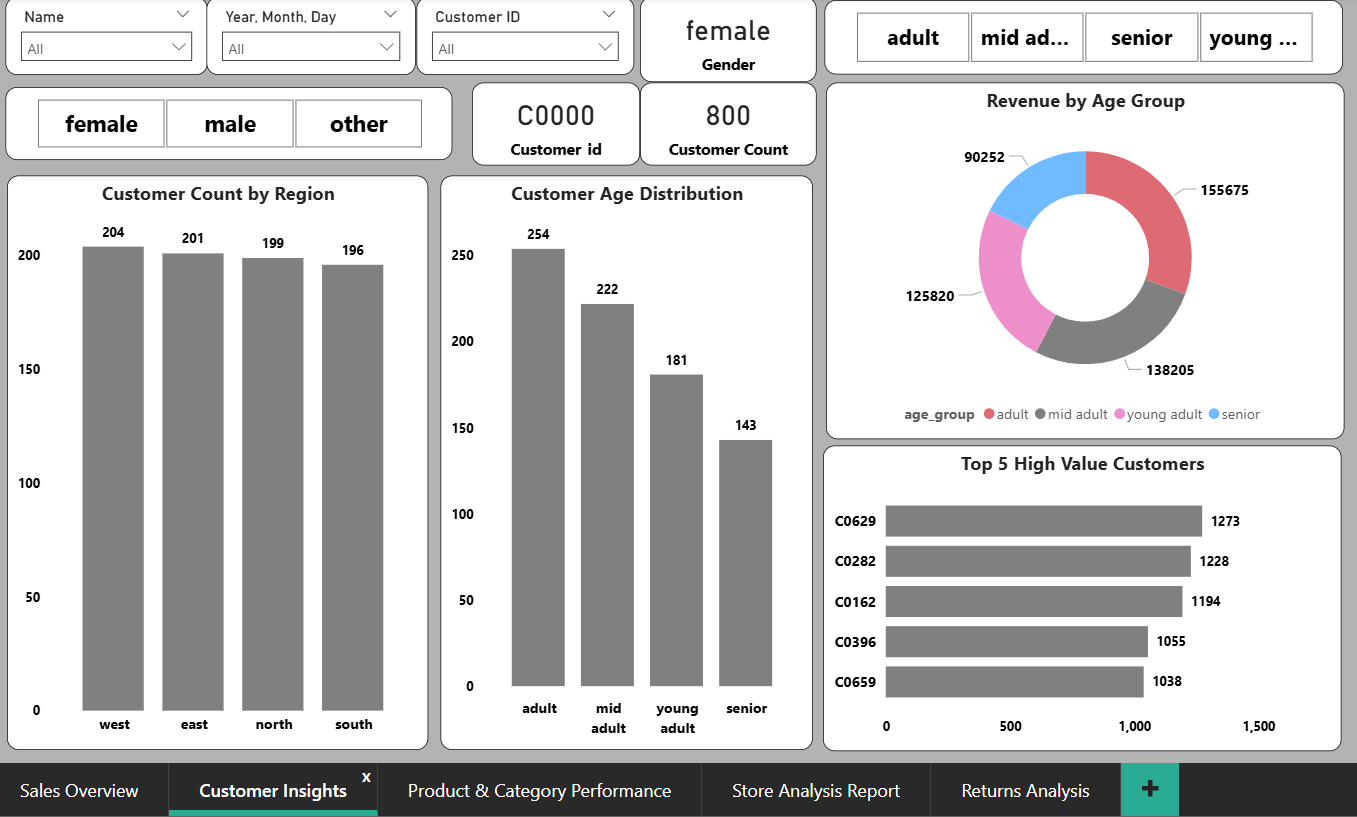

This screenshot's page, from the dashboard's own definition file:
{"tool":"powerbi","page":{"name":"Customer Insights","canvas":[1280,720],"ordinal":1},"visuals":[{"type":"card","fields":{"Values":["CountNonNull(retail_store customers.gender)"]},"box":[603.9,79.9,166.2,78.3],"z":0},{"type":"columnChart","title":"Customer Count by Region ","fields":{"Y":["retail_store customers.Total Customers"],"Category":["retail_store customers.region"]},"box":[8,167.8,396.2,540],"z":1000},{"type":"slicer","fields":{"Values":["retail_store customers.gender"]},"box":[6.4,84.7,420.2,68.7],"z":2000},{"type":"donutChart","title":"Revenue by Age Group","fields":{"Category":["retail_store customers.age_group"],"Y":["retail_store customers.Total Revenue"]},"box":[778.1,79.9,487.3,335.5],"z":3000},{"type":"slicer","fields":{"Values":["retail_store customers.age_group"]},"box":[776.5,3.2,487.3,70.3],"z":4000},{"type":"card","fields":{"Values":["Min(retail_store customers.gender)"]},"box":[603.9,0,166.2,79.9],"z":5000},{"type":"card","fields":{"Values":["Min(retail_store customers.customer_id)"]},"box":[445.7,79.9,158.2,78.3],"z":6000},{"type":"slicer","fields":{"Values":["retail_store customers.first_name"]},"box":[6.4,0,190.1,73.5],"z":7000},{"type":"slicer","fields":{"Values":["retail_store customers.signup_date.Variation.Date Hierarchy.Year","retail_store customers.signup_date.Variation.Date Hierarchy.Month","retail_store customers.signup_date.Variation.Date Hierarchy.Day"]},"box":[196.5,0,196.5,73.5],"z":8000},{"type":"slicer","fields":{"Values":["retail_store customers.customer_id"]},"box":[393,0,204.5,73.5],"z":9000},{"type":"columnChart","title":"Customer Age Distribution  ","fields":{"Y":["retail_store customers.Total Customers"],"Category":["retail_store customers.age_group"]},"box":[415.4,167.8,349.9,540],"z":10000},{"type":"clusteredBarChart","title":"Top 5 High Value Customers","fields":{"Category":["retail_store customers.customer_id"],"Y":["retail_store customers.Total Profit"]},"box":[776,421,487,287],"z":11000}]}

Visuals, with their boxes on the page's 1280x720 design canvas (x1, y1, x2, y2). These are canvas units, not pixel positions in the 1357x817 screenshot, which may show the page scaled, cropped or inside an application window:
card - CountNonNull(retail_store customers.gender): 604:80:770:158
"Customer Count by Region " columnChart: 8:168:404:708
slicer - retail_store customers.gender: 6:85:427:153
"Revenue by Age Group" donutChart: 778:80:1265:415
slicer - retail_store customers.age_group: 776:3:1264:74
card - Min(retail_store customers.gender): 604:0:770:80
card - Min(retail_store customers.customer_id): 446:80:604:158
slicer - retail_store customers.first_name: 6:0:196:74
slicer - retail_store customers.signup_date.Variation.Date Hierarchy.Year x retail_store customers.signup_date.Variation.Date Hierarchy.Month: 196:0:393:74
slicer - retail_store customers.customer_id: 393:0:598:74
"Customer Age Distribution  " columnChart: 415:168:765:708
"Top 5 High Value Customers" clusteredBarChart: 776:421:1263:708
